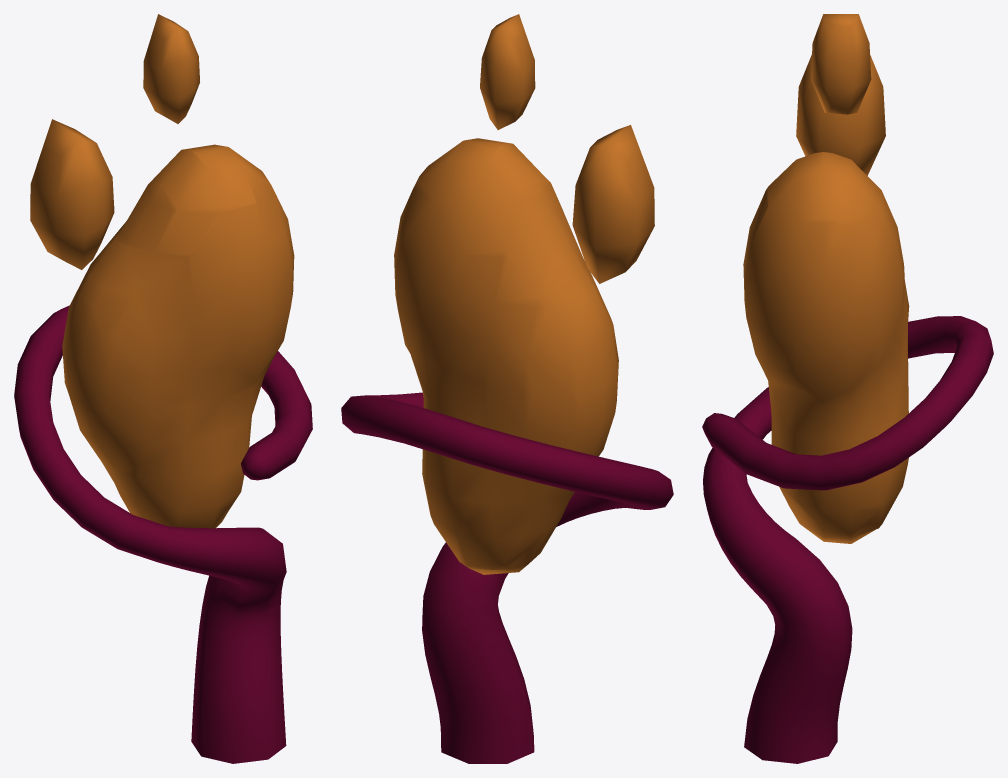
The model's file is tree_lava_2.glb.
3 renders of one model, left to right at view 1: azimuth 30°, elevation 25°; view 2: azimuth 150°, elevation 25°; view 3: azimuth 270°, elevation 25°, orthographic. The views are drawn at different scales.
Parts seen in each view (by area): view 1: Tree_Lava_2; view 2: Tree_Lava_2; view 3: Tree_Lava_2.
Part boxes in pixels (left/top/right/bottom): Tree_Lava_2: left=14, top=14, right=312, bottom=763; Tree_Lava_2: left=341, top=14, right=673, bottom=763; Tree_Lava_2: left=702, top=14, right=993, bottom=763.
Size of the model in its own units: 1.23 by 3.08 by 1.15.
1 material, 1 textured.
